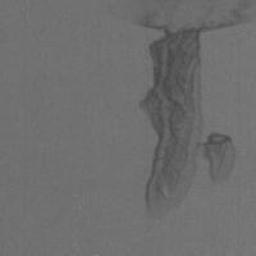Water spot: (105, 0, 256, 223)
